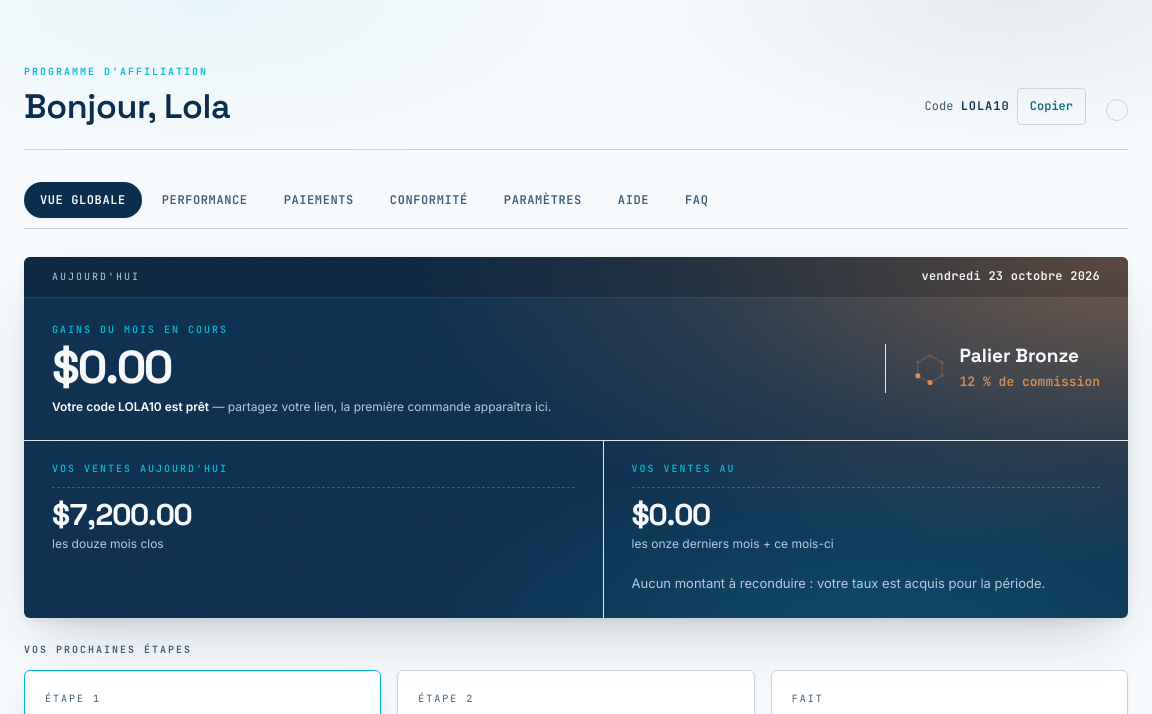
Test case: le détail d'un versement › LE CAS DE MIREILLE : la commande remboursée est là, avec sa date
Click the button with test id "affiliate-tab-payments".
click(319, 200)  # box [268,182,370,218]
(page scrolled)
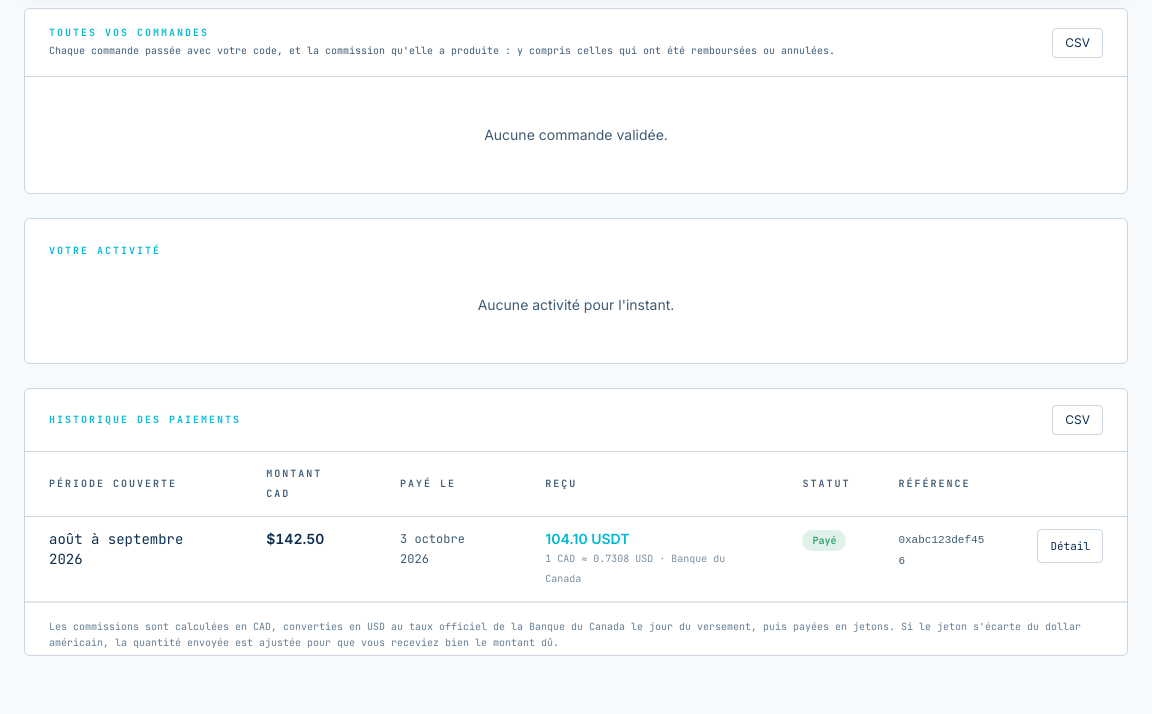
Click the button with test id "detail-bouton-table-pay-1".
click(1070, 546)  # box [1037,529,1103,563]
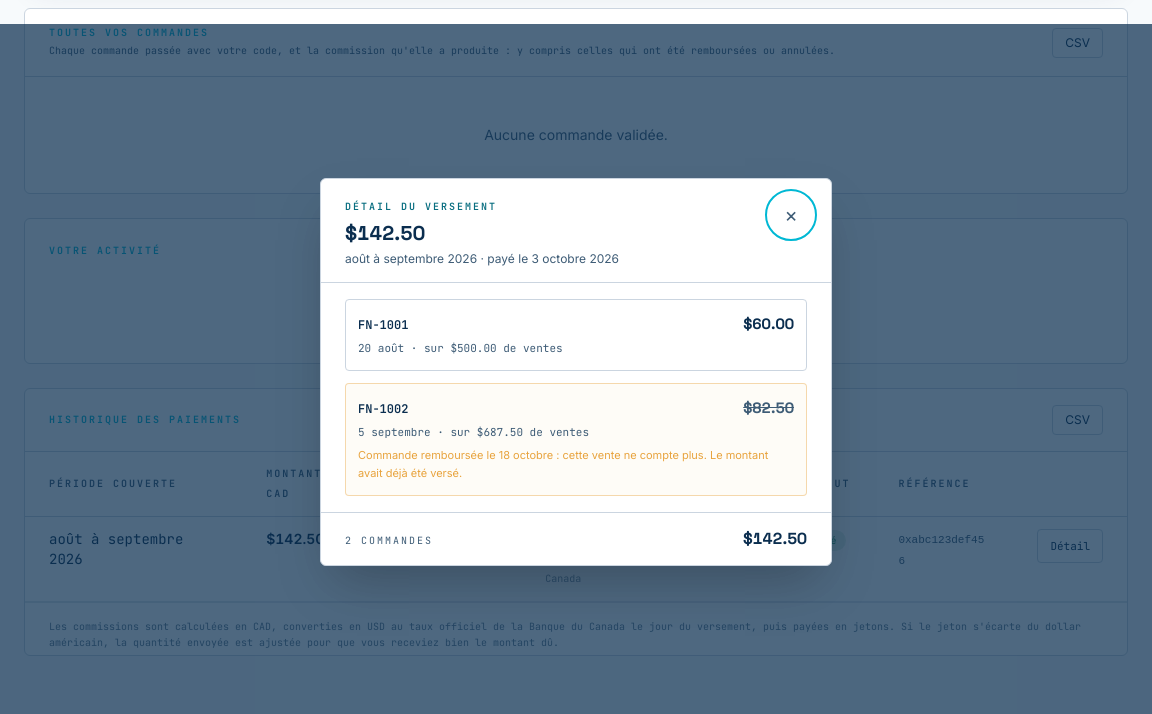
Expected: the list with test id "detail-lignes" is shown, [345,299,807,496]
Expected: the list item with test id "detail-ligne-FN-1001" is shown, [345,299,807,371]
Expected: the text with test id "detail-reprise-FN-1002" shows "remboursée", [358,448,707,462]
